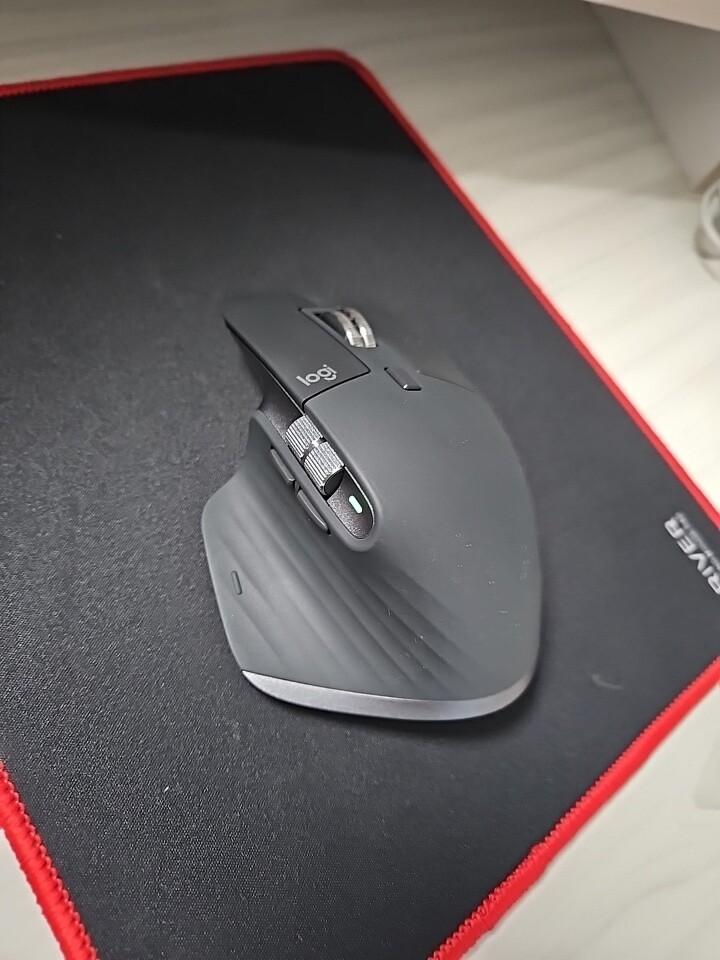mouse: (198, 291, 544, 722)
